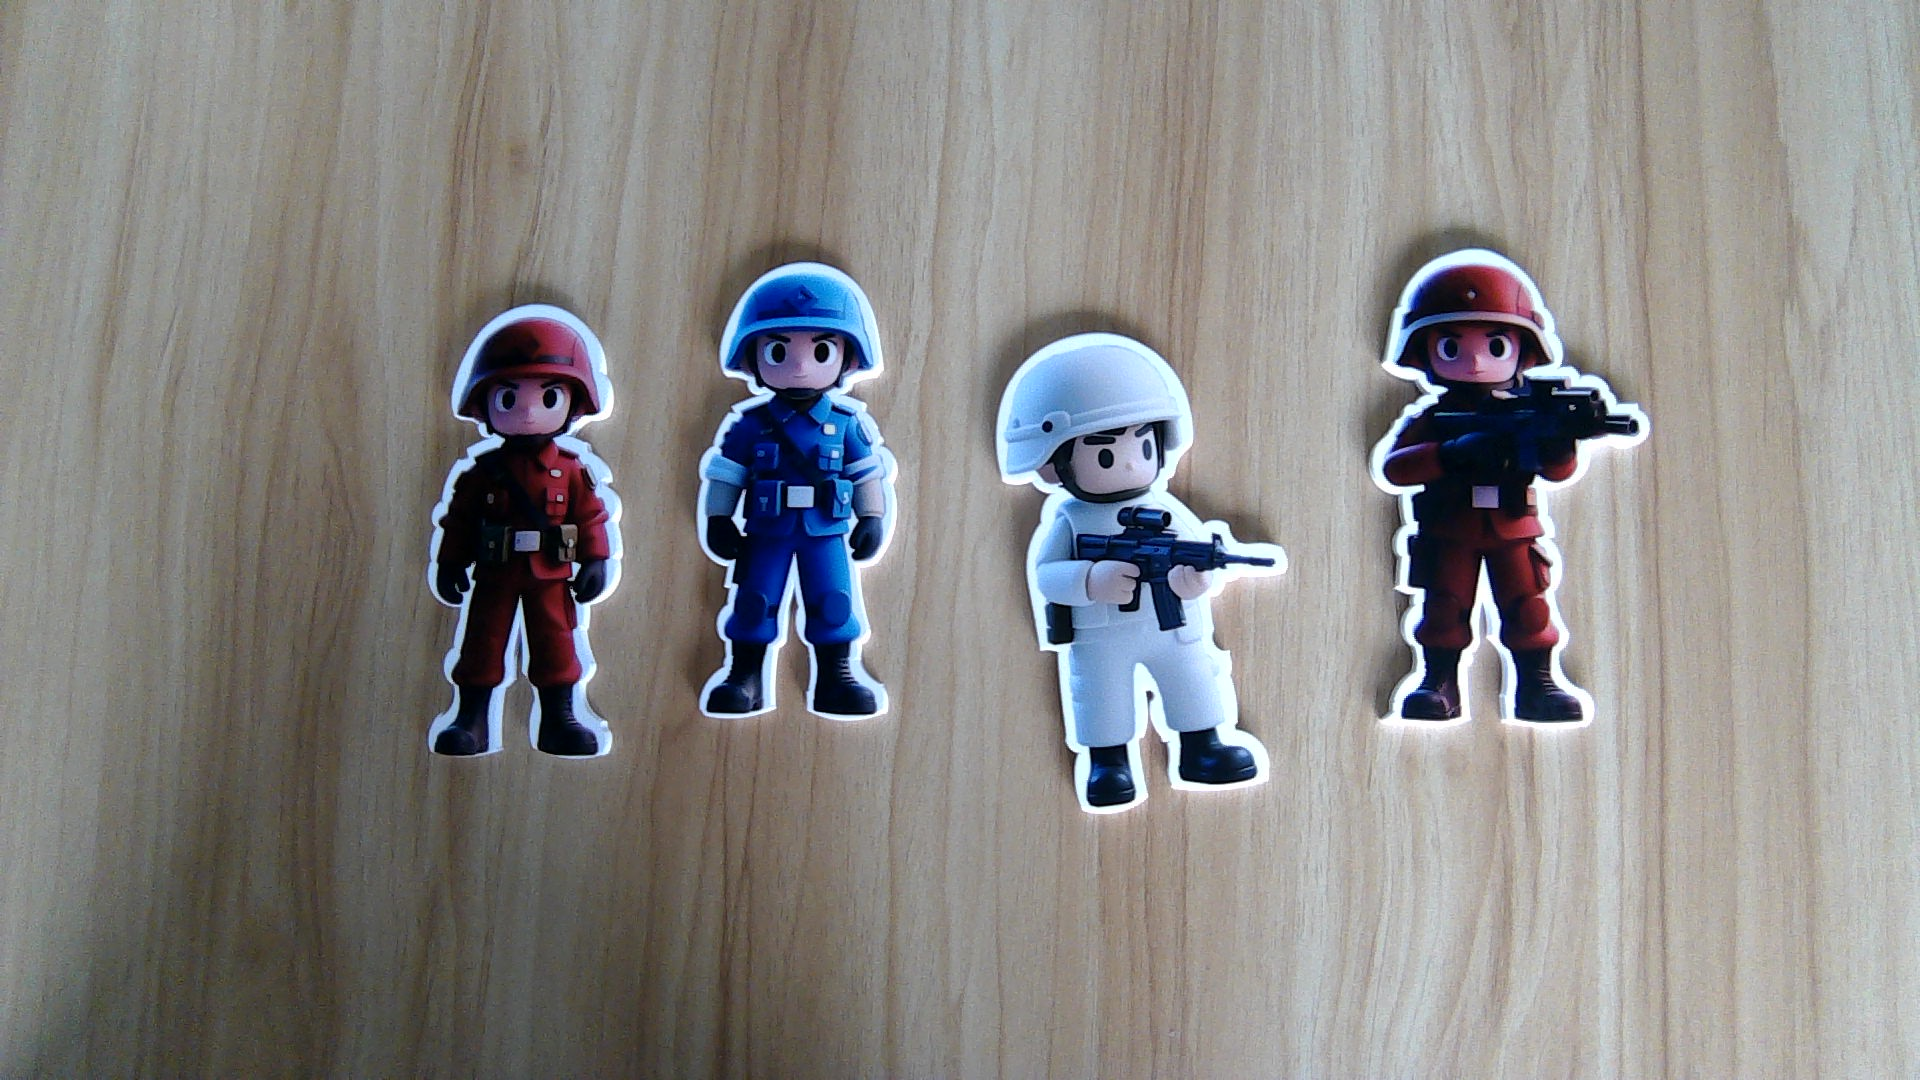人质: (1022, 506, 1288, 819)
敌人1: (1352, 386, 1655, 738), (413, 440, 629, 760)
敌人2: (680, 393, 902, 727)
